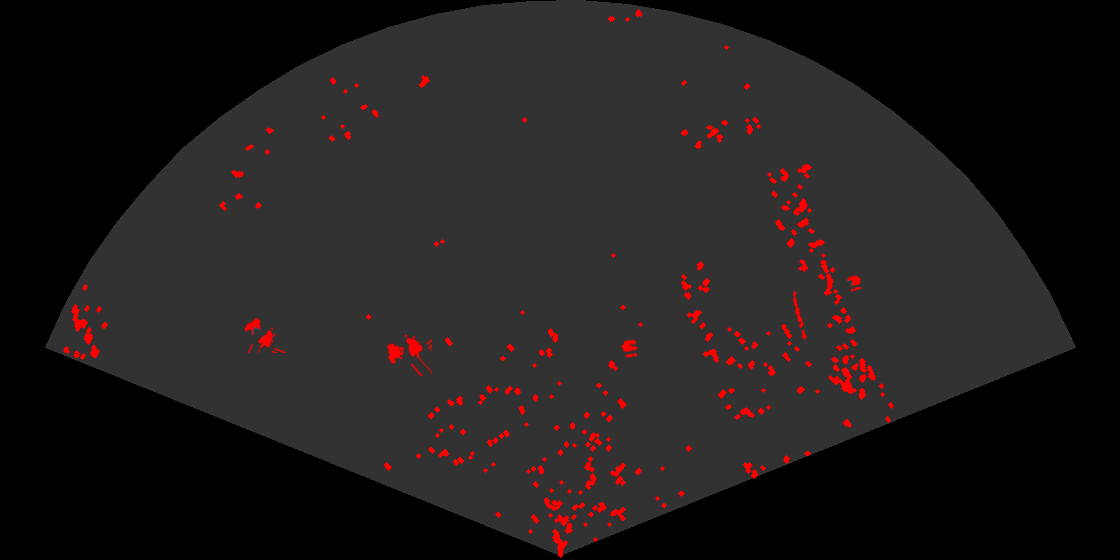ball: (620, 338, 639, 360), (845, 274, 863, 293)
cage: (385, 333, 432, 376), (243, 316, 286, 353)
chain: (791, 290, 808, 342)
